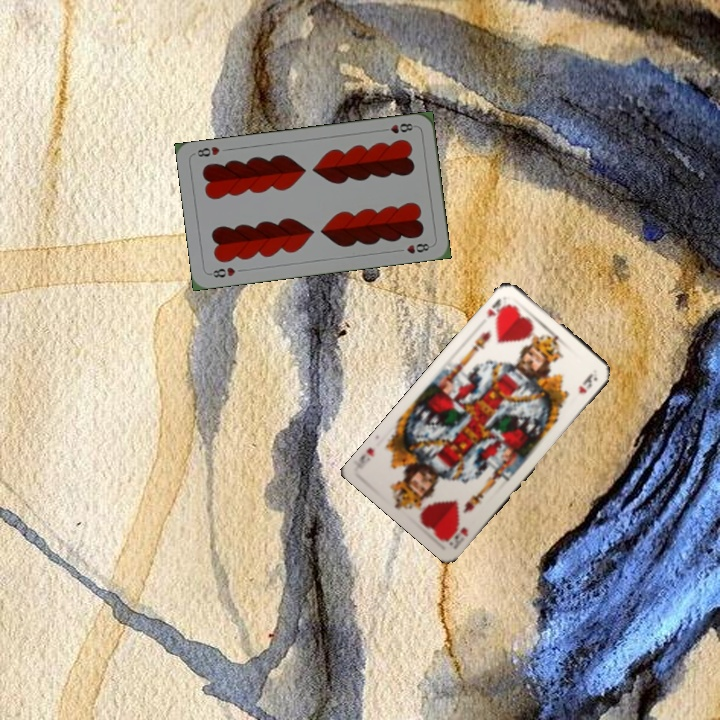H8: (378, 119, 418, 136), (206, 263, 238, 280)
HK: (482, 294, 512, 323), (443, 523, 471, 551)
